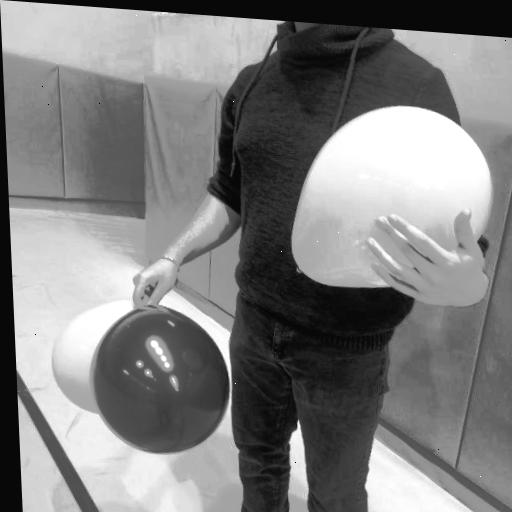balloon: (286, 97, 499, 298), (89, 299, 238, 460), (49, 294, 137, 419)
